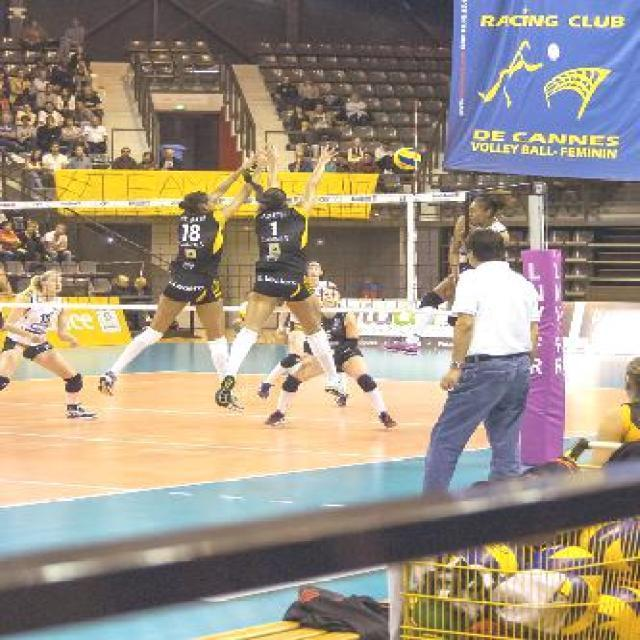volleyball: (391, 147, 421, 170)
